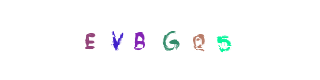5: (183, 0, 263, 80)
B: (120, 0, 200, 80)
E: (89, 0, 169, 80)
G: (120, 0, 200, 80)
Q: (130, 0, 210, 80)
V: (98, 0, 178, 80)
